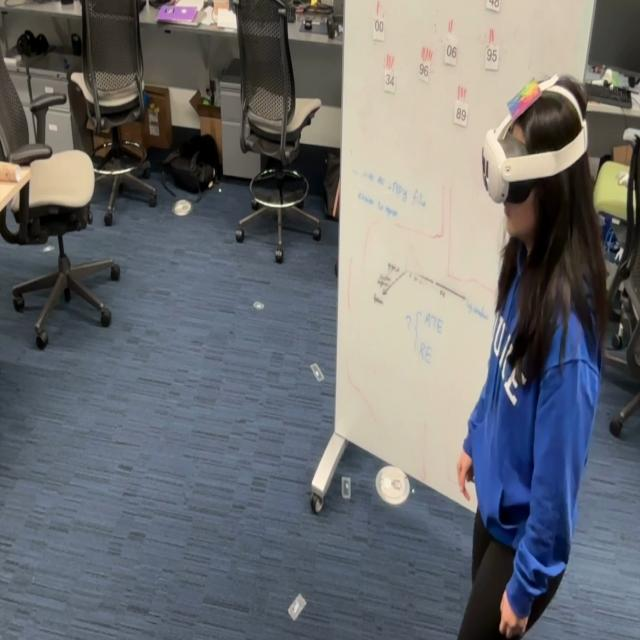Headset: (481, 78, 588, 204)
Marker: (502, 71, 544, 127)
